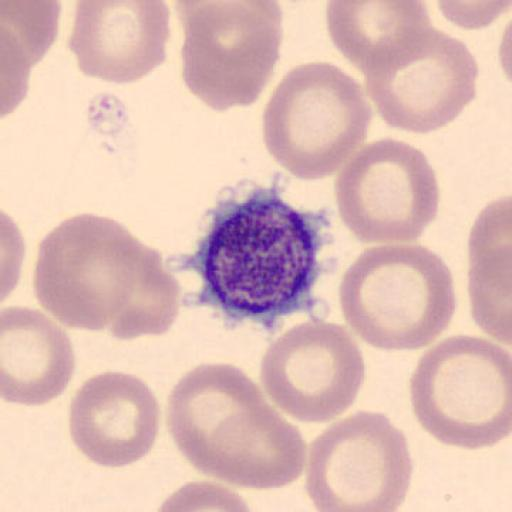Platelet: (194, 178, 336, 331)
RBC: (165, 362, 294, 490), (260, 60, 374, 184), (359, 24, 480, 135), (33, 211, 141, 333), (338, 242, 457, 352), (408, 332, 512, 452), (178, 0, 284, 113), (333, 134, 441, 244), (164, 361, 270, 473), (257, 318, 367, 424), (304, 409, 416, 512), (66, 368, 162, 470), (68, 0, 172, 86), (96, 237, 181, 341), (204, 407, 308, 491), (324, 0, 433, 73), (1, 304, 77, 407), (466, 190, 512, 347), (0, 0, 63, 66), (148, 478, 260, 512), (1, 24, 32, 123), (0, 208, 26, 308), (435, 0, 512, 31), (498, 10, 512, 85)
